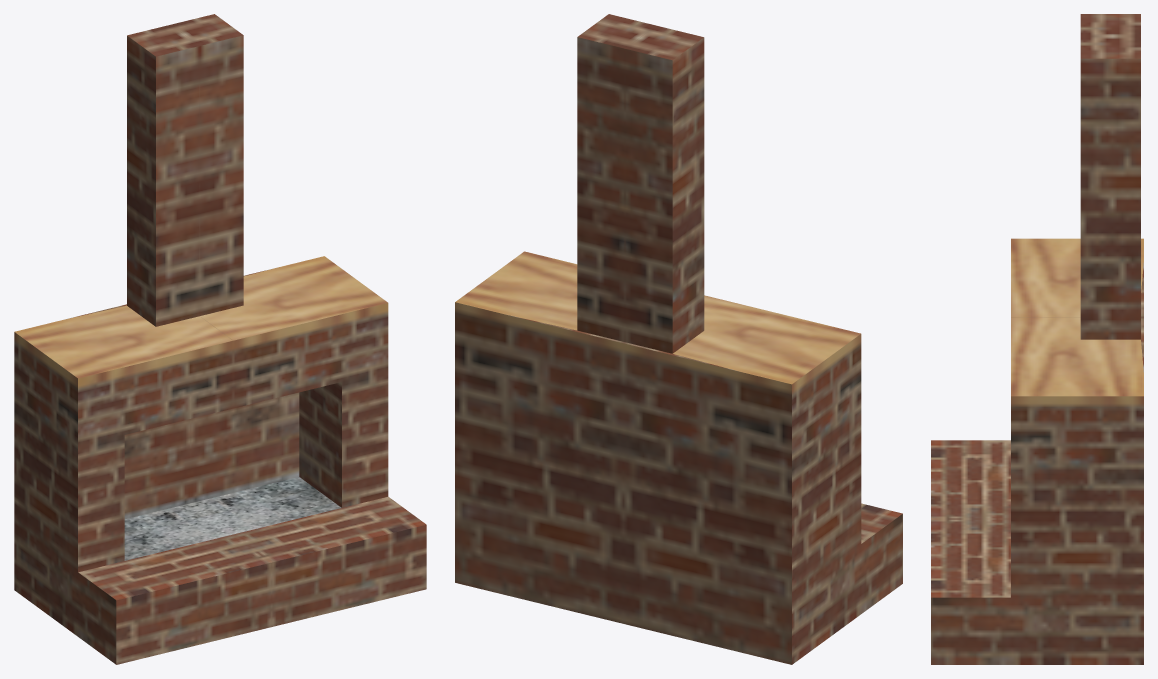
The model's file is Feu.fbx.
3 renders of one model, left to right at view 1: azimuth 30°, elevation 25°; view 2: azimuth 150°, elevation 25°; view 3: azimuth 270°, elevation 25°, orthographic. The views are drawn at different scales.
Parts seen in each view (by area): view 1: Cube; view 2: Cube; view 3: Cube.
Boxes of the visible parts, x1=… form: Cube: x1=14, y1=14, x2=426, y2=664; Cube: x1=455, y1=14, x2=902, y2=664; Cube: x1=931, y1=14, x2=1143, y2=664.
Bounding box in the file's own units: 841 × 1369 × 480.
1 material, 1 textured.
